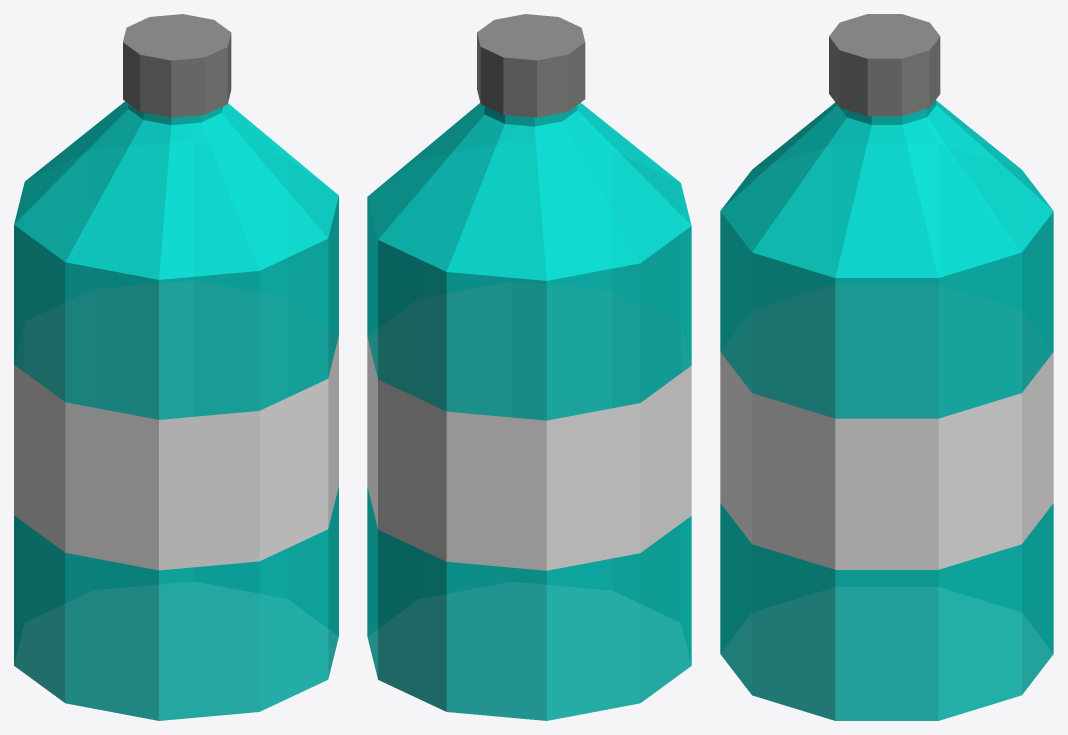
The model's file is water bottle.fbx.
3 renders of one model, left to right at view 1: azimuth 30°, elevation 25°; view 2: azimuth 150°, elevation 25°; view 3: azimuth 270°, elevation 25°, orthographic.
Parts seen in each view (by area): view 1: Cylinder, Cylinder.001; view 2: Cylinder, Cylinder.001; view 3: Cylinder, Cylinder.001.
Part boxes in pixels (<box>): Cylinder: <box>14,101,338,720</box>; Cylinder.001: <box>123,14,231,117</box>; Cylinder: <box>367,102,691,720</box>; Cylinder.001: <box>477,14,585,117</box>; Cylinder: <box>720,99,1053,720</box>; Cylinder.001: <box>829,14,940,116</box>.
Size of the model in its own units: 190 by 408 by 200.
